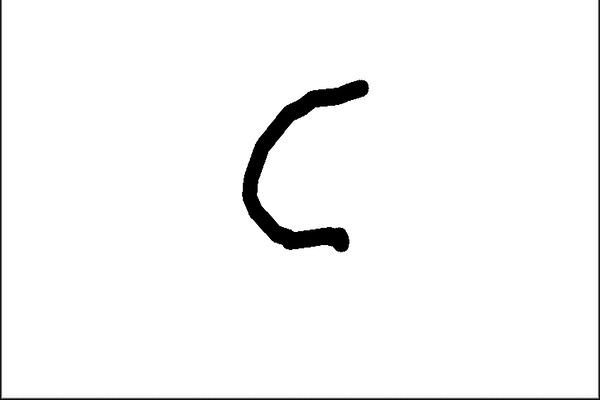C: (237, 71, 374, 255)
